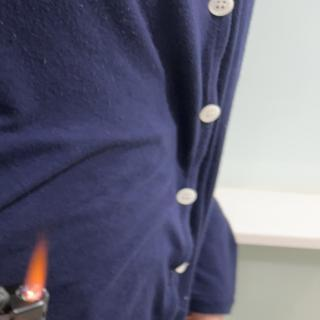fire: (24, 232, 51, 304)
